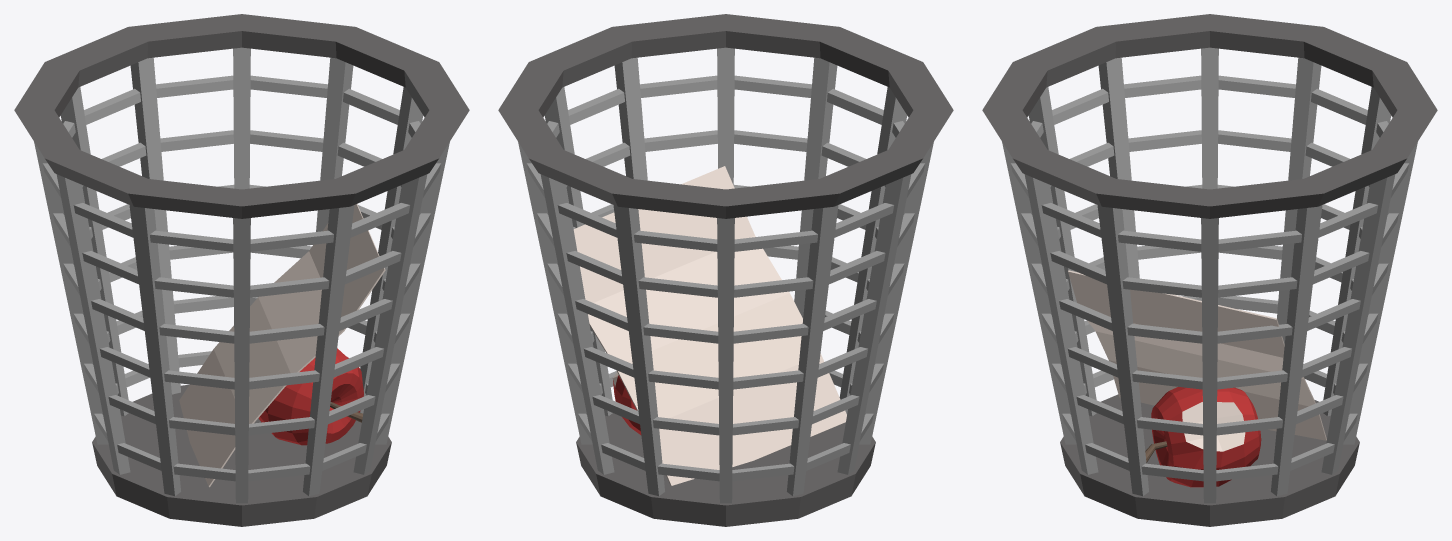
Rendered from Trashcan_Full.fbx.
3 renders of one model, left to right at view 1: azimuth 30°, elevation 25°; view 2: azimuth 150°, elevation 25°; view 3: azimuth 270°, elevation 25°, orthographic.
Visible parts, largest first — view 1: Trashcan_Full; view 2: Trashcan_Full; view 3: Trashcan_Full.
Part boxes in pixels (left/top/right/bottom): Trashcan_Full: left=14, top=14, right=469, bottom=526; Trashcan_Full: left=498, top=14, right=953, bottom=526; Trashcan_Full: left=982, top=14, right=1437, bottom=526.
Size of the model in its own units: 50.54 by 50.54 by 43.53.
